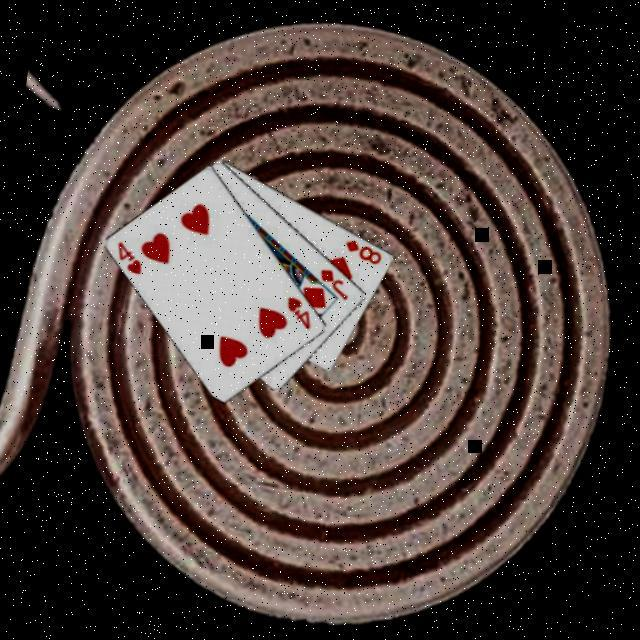4H: (111, 238, 148, 278), (281, 294, 317, 333)
8D: (340, 235, 386, 268)
JD: (314, 266, 354, 304)
